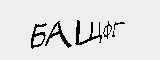К: (97, 27, 119, 45)
П: (75, 19, 99, 48)
Р: (19, 22, 37, 41)
У: (52, 22, 74, 44)
Я: (120, 23, 139, 46)
Ғ: (37, 21, 51, 43)
